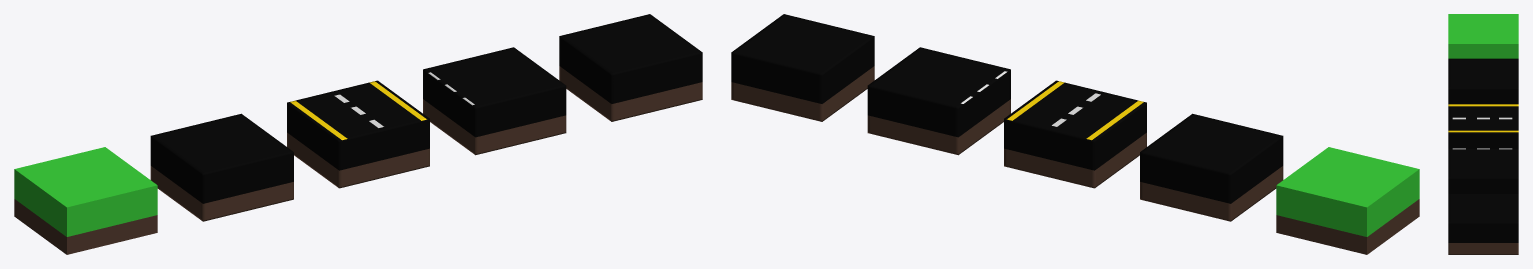
Rendered from MyAssets.fbx.
3 views of the same model, side by side, from view 1: azimuth 30°, elevation 25°; view 2: azimuth 150°, elevation 25°; view 3: azimuth 270°, elevation 25° (orthographic). The views are drawn at different scales.
Parts seen in each view (by area): view 1: GrassPlainBlock0, RoadBlock2, RoadBlock0, RoadBlock3, RoadBlock1; view 2: GrassPlainBlock0, RoadBlock2, RoadBlock0, RoadBlock3, RoadBlock1; view 3: RoadBlock3, RoadBlock0, RoadBlock1, GrassPlainBlock0, RoadBlock2.
Boxes of the visible parts, x1=… form: GrassPlainBlock0: x1=14, y1=147, x2=157, y2=254; RoadBlock2: x1=423, y1=47, x2=566, y2=155; RoadBlock0: x1=150, y1=113, x2=293, y2=221; RoadBlock3: x1=559, y1=14, x2=702, y2=121; RoadBlock1: x1=287, y1=80, x2=429, y2=188; GrassPlainBlock0: x1=1276, y1=147, x2=1419, y2=254; RoadBlock2: x1=867, y1=47, x2=1010, y2=155; RoadBlock0: x1=1140, y1=113, x2=1283, y2=221; RoadBlock3: x1=731, y1=14, x2=874, y2=121; RoadBlock1: x1=1004, y1=80, x2=1146, y2=188; RoadBlock3: x1=1448, y1=193, x2=1518, y2=254; RoadBlock0: x1=1448, y1=58, x2=1518, y2=103; RoadBlock1: x1=1448, y1=103, x2=1518, y2=148; GrassPlainBlock0: x1=1448, y1=14, x2=1518, y2=58; RoadBlock2: x1=1448, y1=148, x2=1518, y2=192.
Size of the model in its own units: 200 by 1400 by 100.
